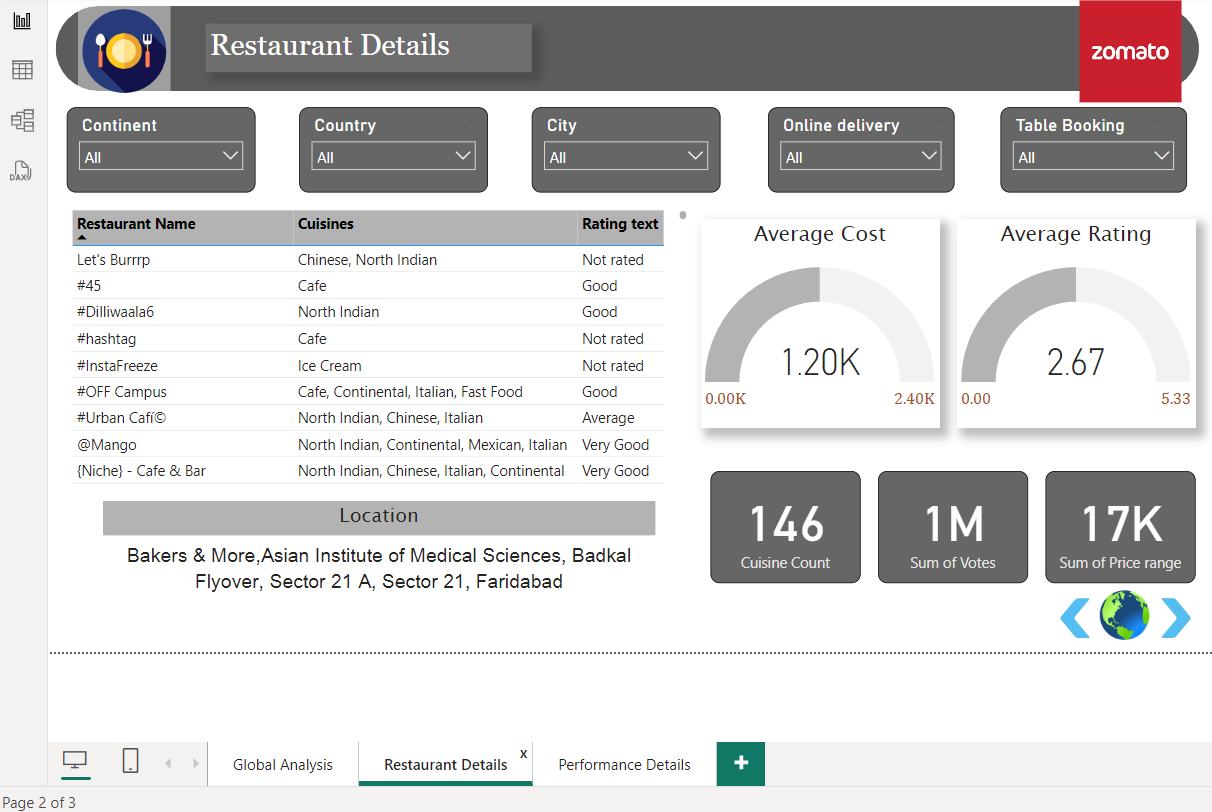

The page's visual inventory and layout, read from the dashboard file:
{"tool":"powerbi","page":{"name":"Restaurant Details","canvas":[1280,720],"ordinal":1},"visuals":[{"type":"card","fields":{"Values":["Cuisines.Cuisine Count"]},"box":[727.3,520.9,164.7,123.5],"z":0},{"type":"card","fields":{"Values":["Sum(Fact Table.Votes)"]},"box":[911.2,520.9,164.7,123.5],"z":1000},{"type":"slicer","fields":{"Values":["Country-Code.Continent"]},"box":[20.6,122.1,207.2,93.3],"z":2000},{"type":"slicer","fields":{"Values":["Country-Code.Country"]},"box":[275.8,122.1,207.2,93.3],"z":3000},{"type":"slicer","fields":{"Values":["Zomato Regions.City"]},"box":[531,122.1,207.2,93.3],"z":4000},{"type":"shape","box":[8.2,11,1255.6,93.3],"z":5000},{"type":"textbox","box":[172.9,30.2,358.1,53.5],"z":6000},{"type":"image","box":[1135.6,648.3,91.9,64.5],"z":7000},{"type":"image","box":[1096.1,0,183.9,122.1],"z":8000},{"type":"image","box":[1211.1,651.1,53.5,64.5],"z":9000},{"type":"image","box":[1100,655.2,53.5,56.3],"z":10000},{"type":"image","box":[32.9,0,101.5,120.8],"z":11000},{"type":"tableEx","fields":{"Values":["Zomato Regions.Restaurant Name","Zomato Regions.Cuisines","Fact Table.Rating text"]},"box":[20.6,230.5,686.1,314.2],"z":12000},{"type":"gauge","title":"Average Cost","fields":{"Y":["Fact Table.Average Cost"]},"box":[716.3,244.3,262.1,230.5],"z":13000},{"type":"card","fields":{"Values":["Sum(Fact Table.Price range)"]},"box":[1095,520.9,164.7,123.5],"z":14000},{"type":"card","title":"Location","fields":{"Values":["Min(Zomato Regions.Restaurant Address)"]},"box":[60.4,554.4,606.5,109.8],"z":15000},{"type":"slicer","fields":{"Values":["Fact Table.Has Online delivery"]},"box":[790.4,122.1,204.5,93.3],"z":16000},{"type":"slicer","fields":{"Values":["Fact Table.Has Table booking"]},"box":[1045.6,122.1,204.5,93.3],"z":17000},{"type":"gauge","title":"Average Rating","fields":{"Y":["Fact Table.Average Rating"]},"box":[997.6,244.3,262.1,230.5],"z":18000}]}

Visuals, with their boxes on the page's 1280x720 design canvas (x1, y1, x2, y2). These are canvas units, not pixel positions in the 1212x812 screenshot, which may show the page scaled, cropped or inside an application window:
card - Cuisines.Cuisine Count: (727,521,892,644)
card - Sum(Fact Table.Votes): (911,521,1076,644)
slicer - Country-Code.Continent: (21,122,228,215)
slicer - Country-Code.Country: (276,122,483,215)
slicer - Zomato Regions.City: (531,122,738,215)
shape: (8,11,1264,104)
textbox: (173,30,531,84)
image: (1136,648,1228,713)
image: (1096,0,1280,122)
image: (1211,651,1265,716)
image: (1100,655,1154,712)
image: (33,0,134,121)
tableEx - Zomato Regions.Restaurant Name x Zomato Regions.Cuisines: (21,230,707,545)
"Average Cost" gauge: (716,244,978,475)
card - Sum(Fact Table.Price range): (1095,521,1260,644)
"Location" card: (60,554,667,664)
slicer - Fact Table.Has Online delivery: (790,122,995,215)
slicer - Fact Table.Has Table booking: (1046,122,1250,215)
"Average Rating" gauge: (998,244,1260,475)
